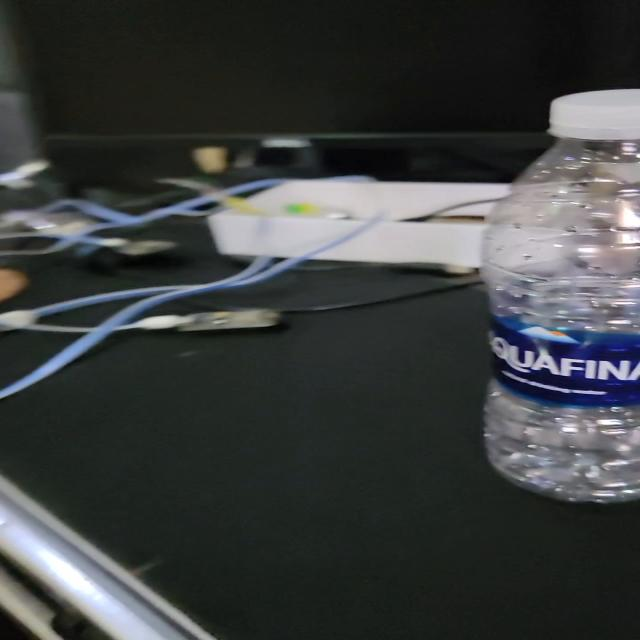Anorganik: (474, 84, 640, 506)
